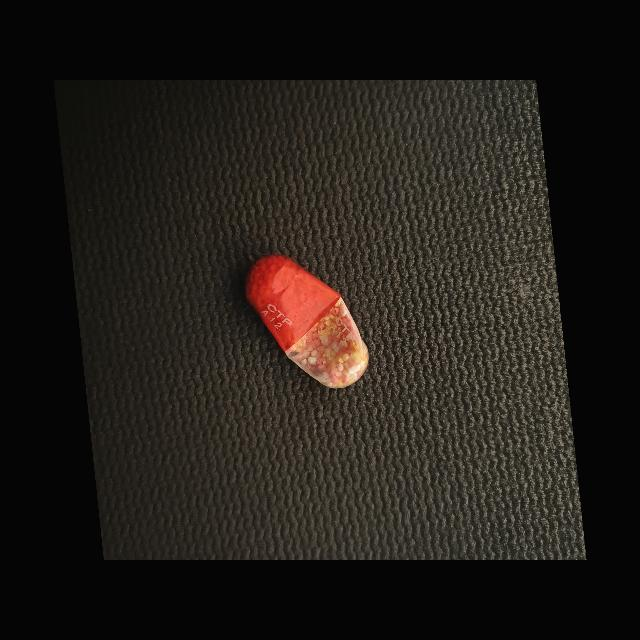Defective Capsule: (245, 255, 369, 388)
